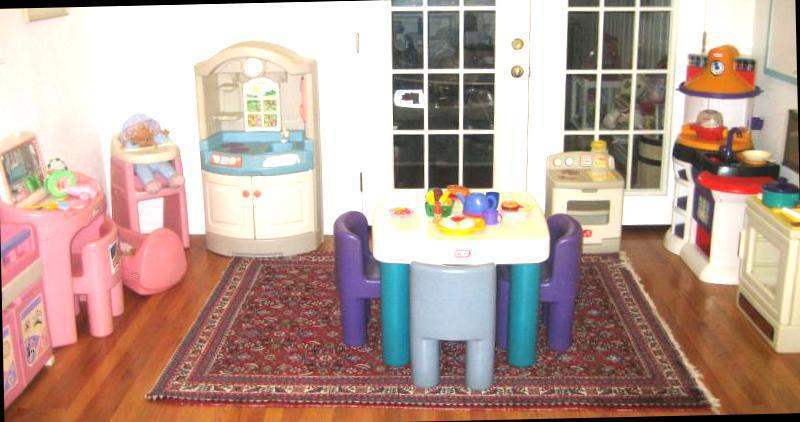Otro Obstaculo: (192, 44, 319, 262), (5, 130, 125, 348), (661, 38, 761, 263), (672, 135, 768, 290), (102, 108, 193, 255), (732, 189, 799, 360), (550, 156, 634, 259)
Puerta: (359, 0, 529, 188)
